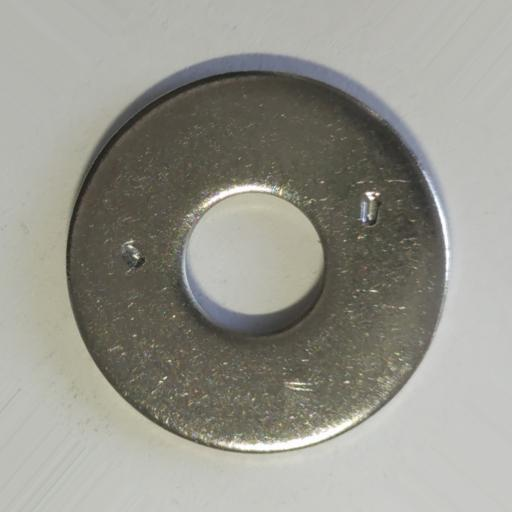circular_cavity: (357, 189, 384, 228), (119, 240, 147, 269)
